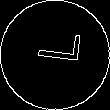L_W: (28, 36, 82, 74)
